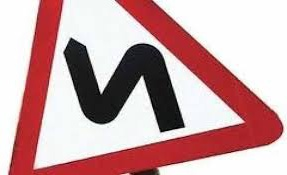Double_bend_left: (4, 1, 285, 175)
